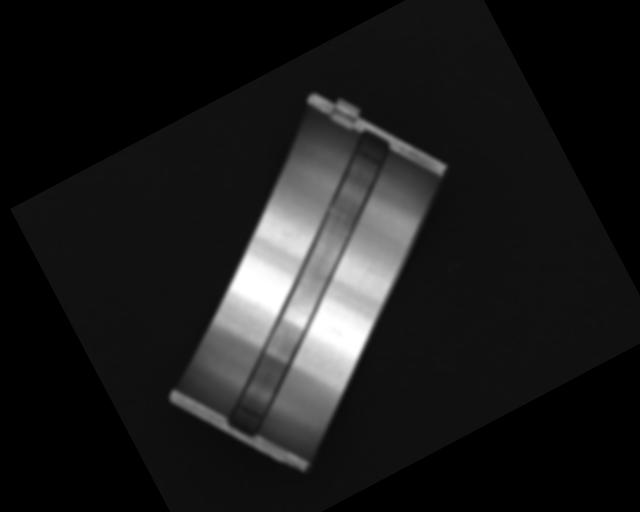gap: (137, 124, 480, 445)
nick: (355, 254, 386, 288)
